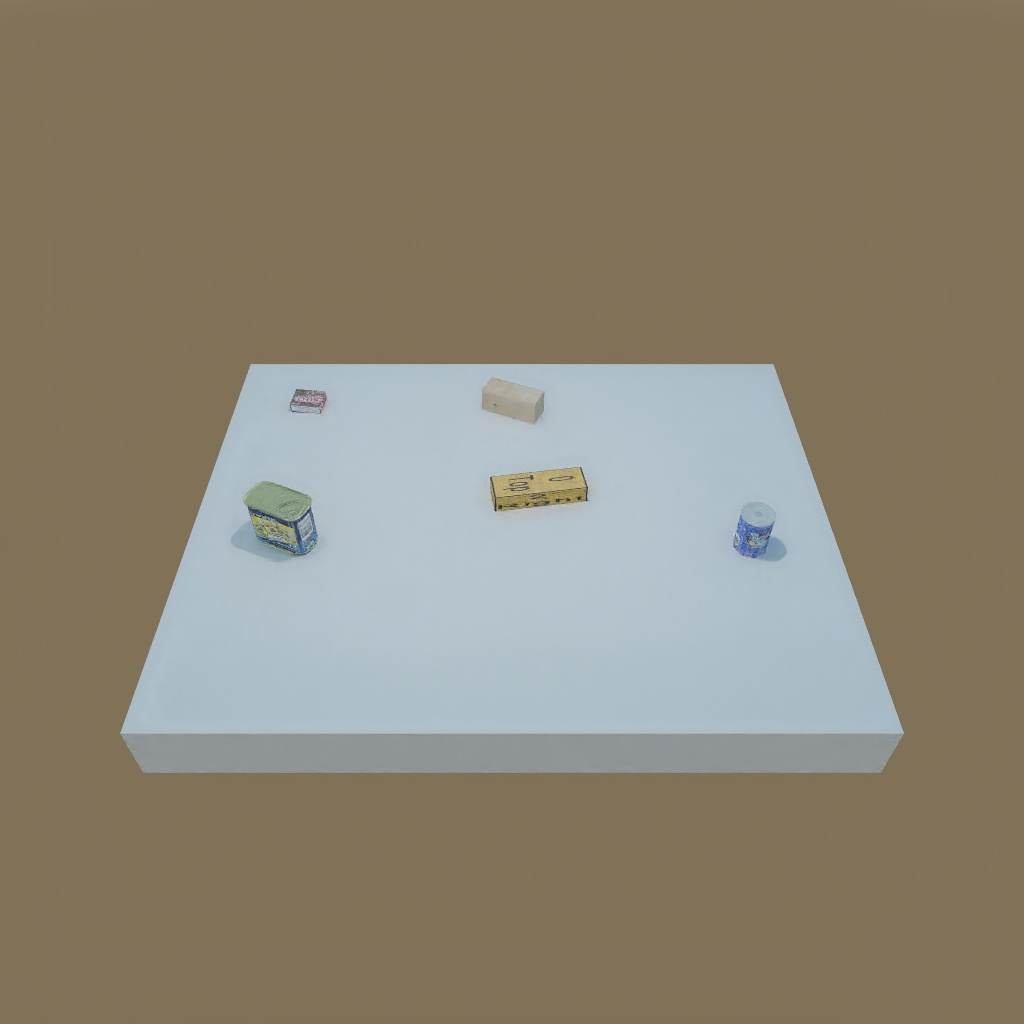jenga: (489, 462, 586, 512)
master_chef_can: (733, 500, 778, 560)
potted_meat_can: (242, 482, 319, 558)
pudding_box: (286, 386, 332, 415)
wood_block: (473, 374, 548, 431)
